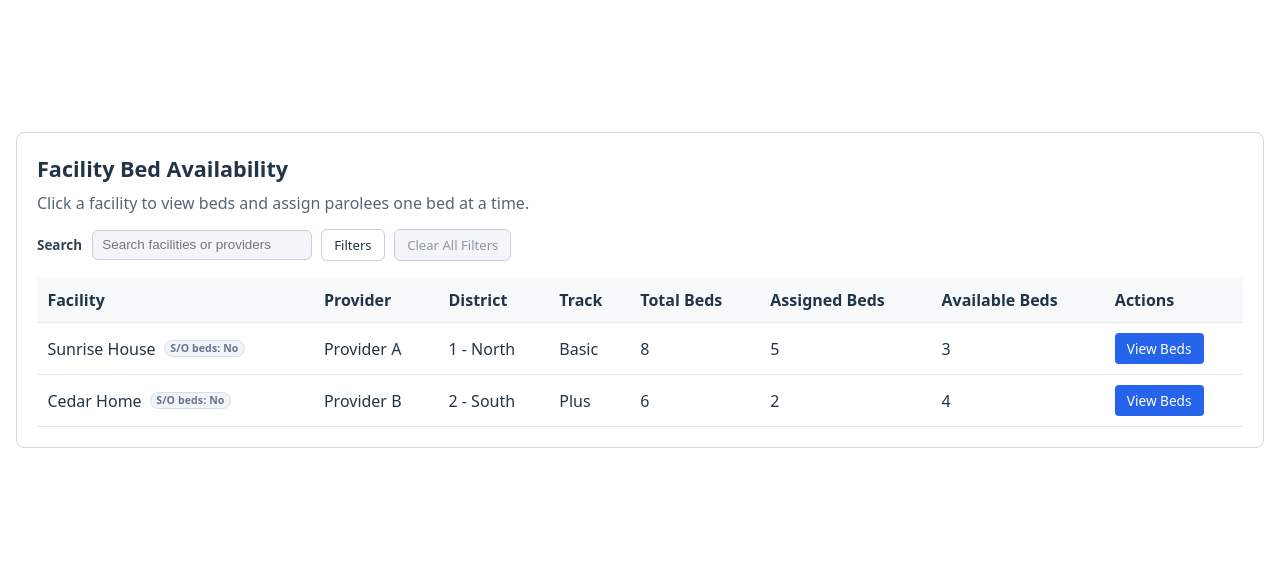
MainDash › filters facilities by selected districts
Expected: the text "Sunrise House" is shown, [47,337,156,361]
Expected: the text "Cedar Home" is shown, [47,388,142,412]
What coordinates should you click on to do the following:
click the button "Filters"
I would click on:
 (353, 245)
Its box is [321,228,385,261].
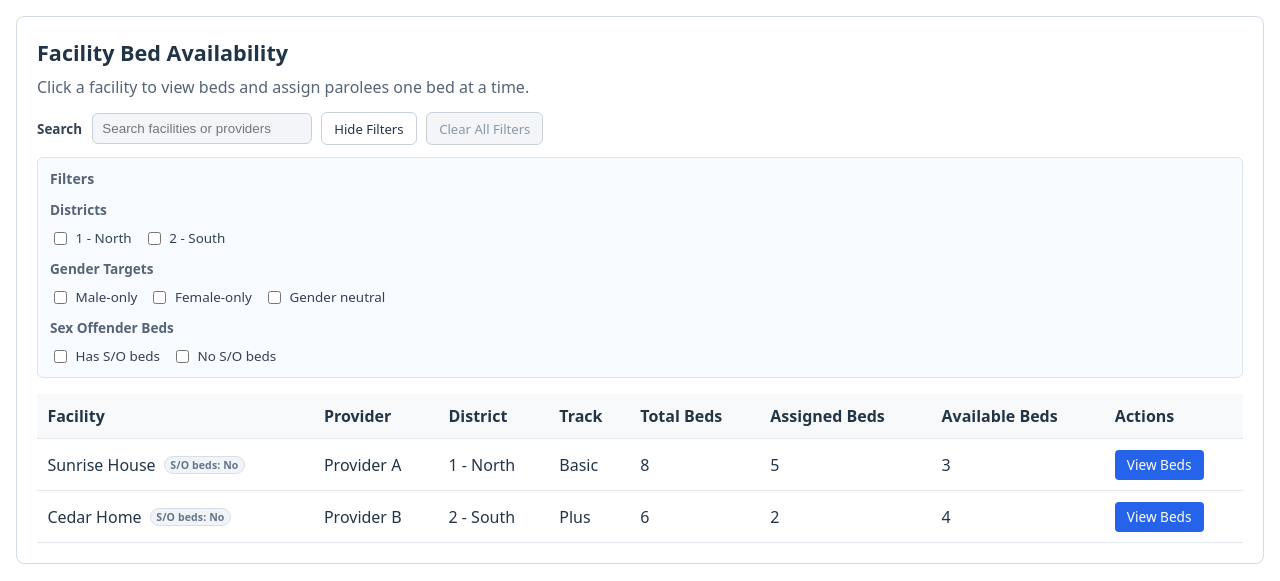
What coordinates should you click on to do the following:
click the checkbox labelled "1 - North"
I would click on:
 (60, 238)
Its box is [54,232,67,245].
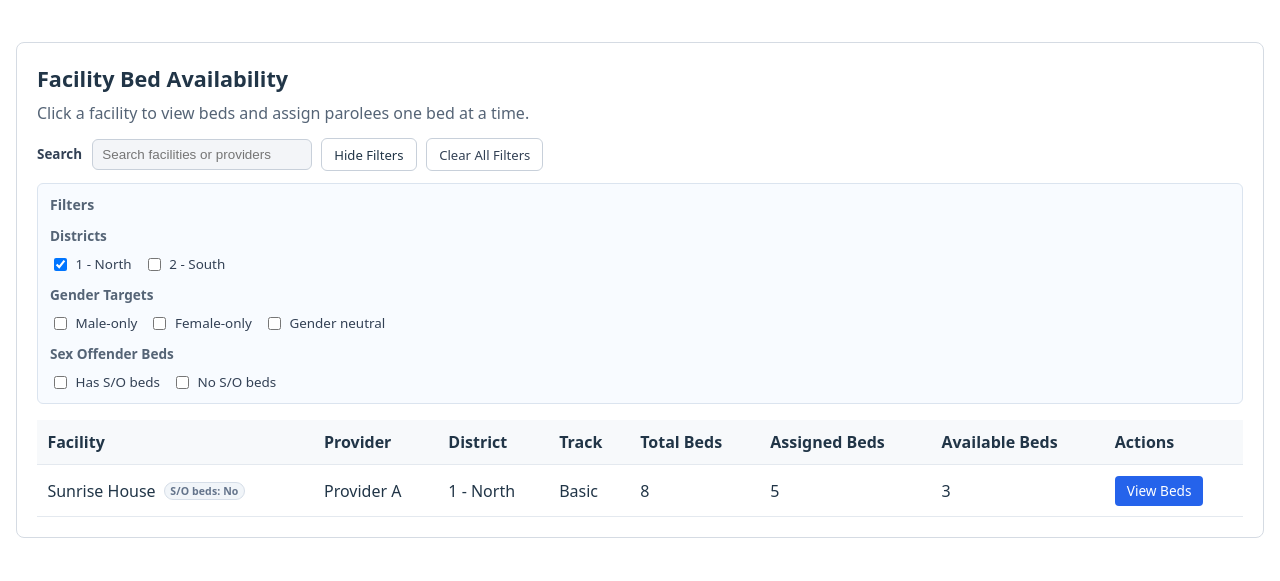
Expected: the text "Sunrise House" is shown, [47,479,156,503]
Expected: the text "Cedar Home" is gone
What coordinates should you click on to do the following:
click the button "Clear All Filters"
I would click on:
 (485, 155)
Its box is [426,138,543,171].
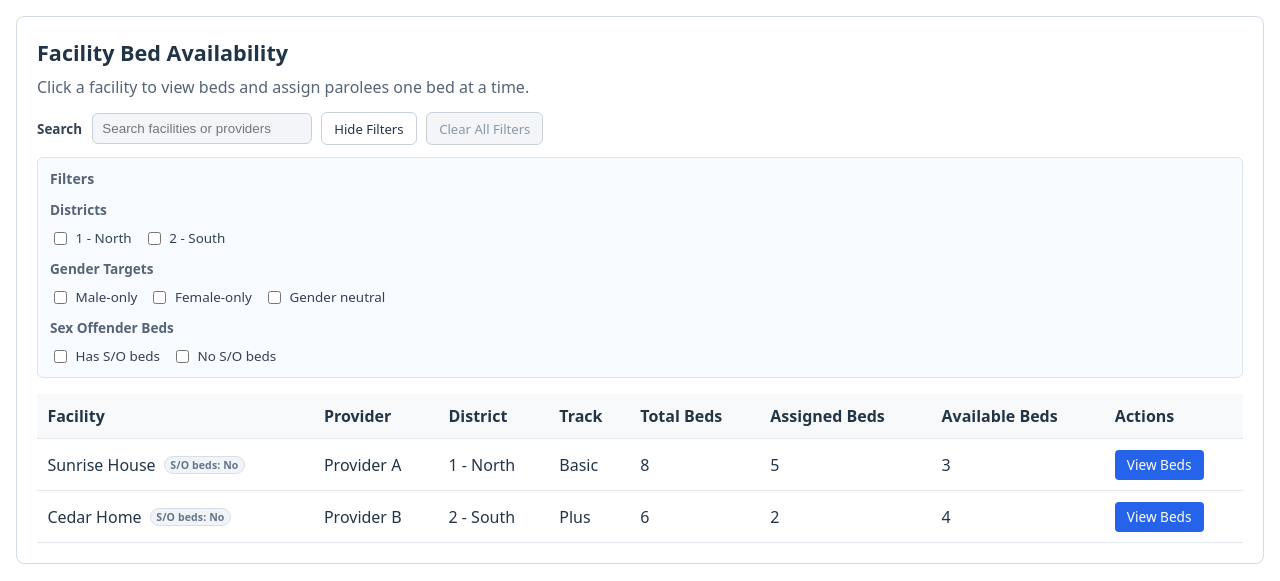
Expected: the text "Sunrise House" is shown, [47,453,156,477]
Expected: the text "Cedar Home" is shown, [47,505,142,529]
